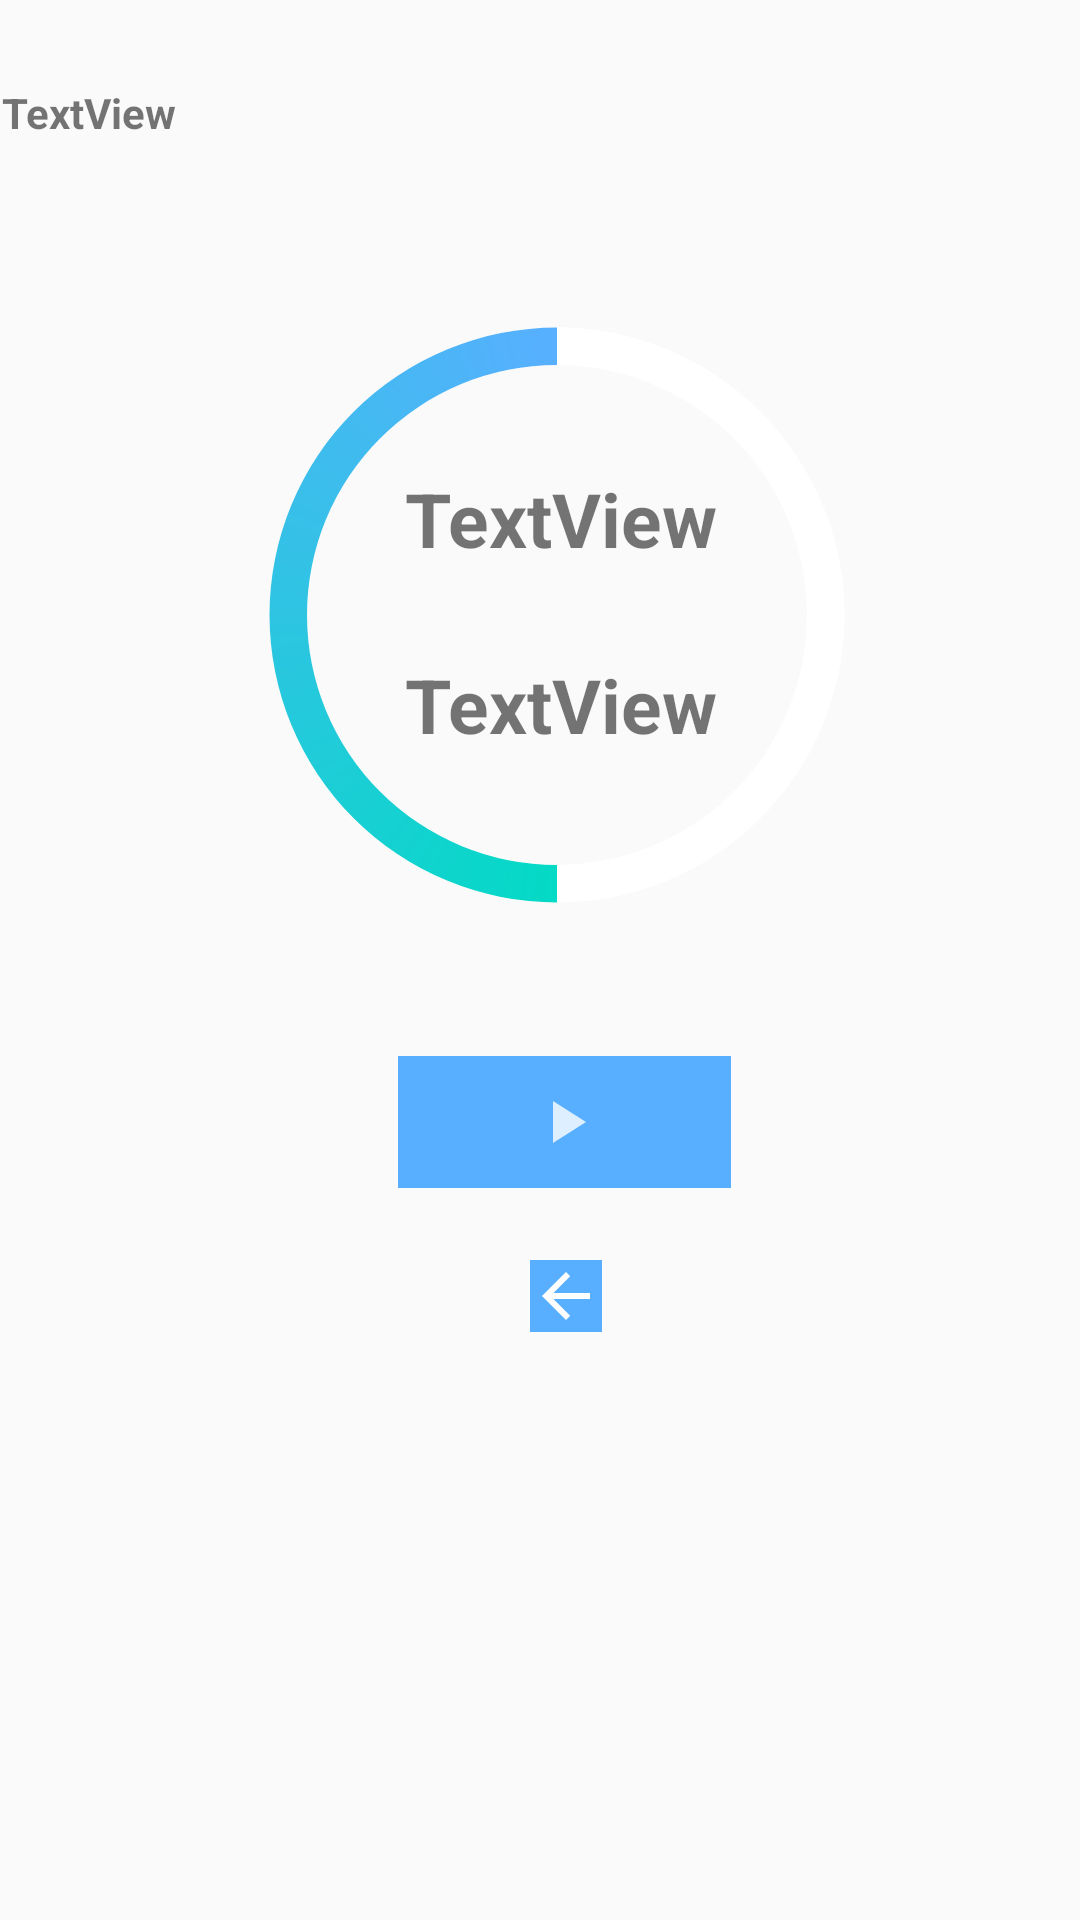

Where to tap for icons on this 1080 × 1920 app screen, as point (x, y):
play: point (564, 1122)
